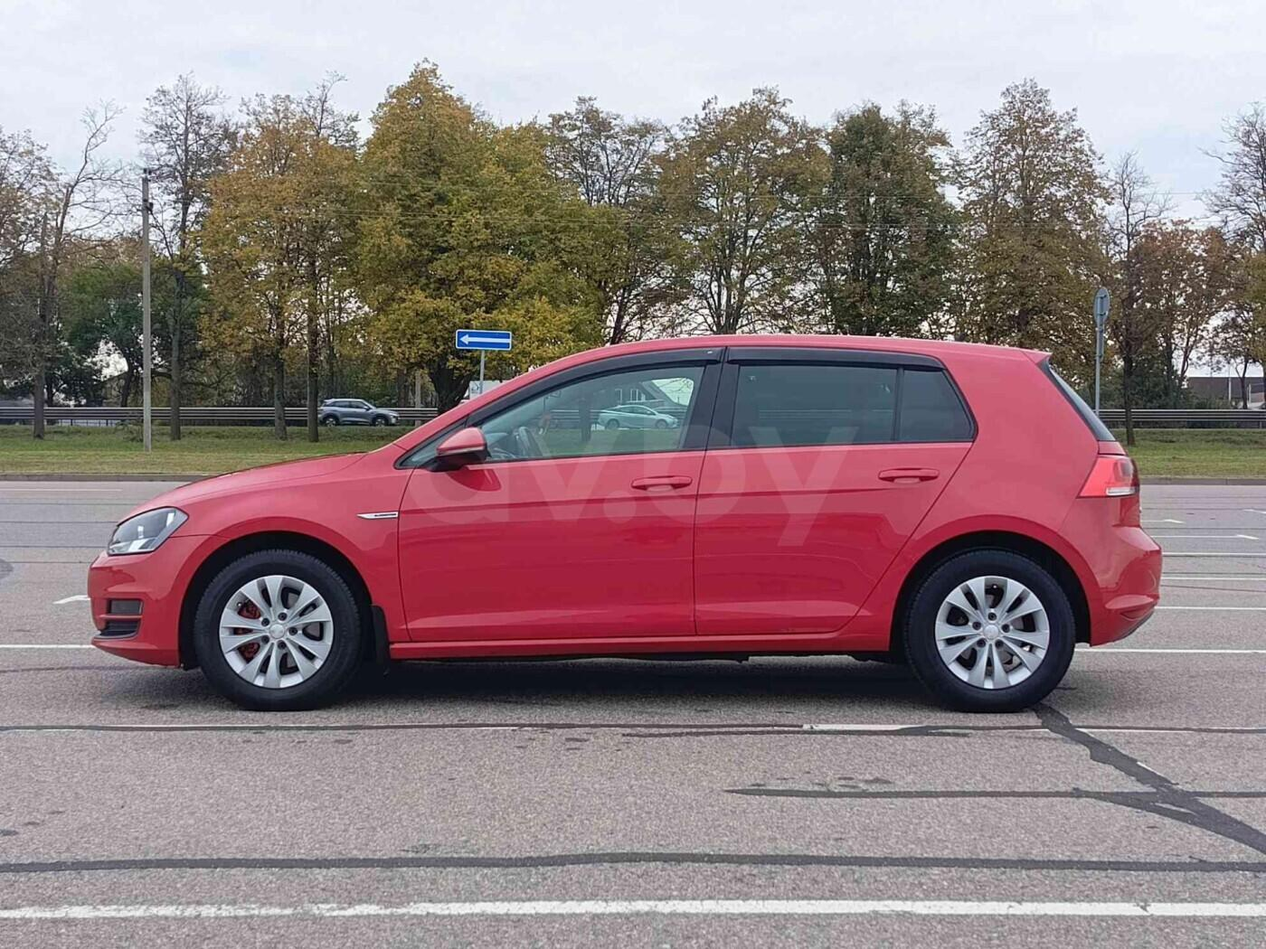Golf_2012-2017: (76, 331, 1155, 740)
